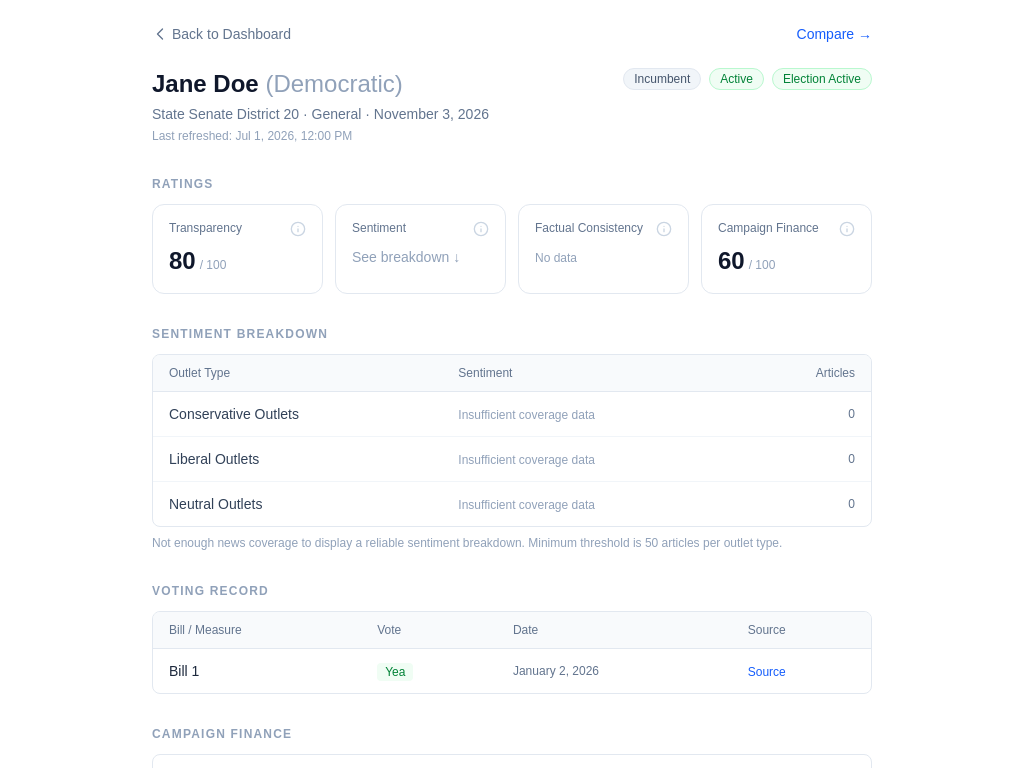
Scenario: CandidateProfile rating cards and popups › shows the 'fewer than 10 votes' explanation in the Factual popup when applicable
The image size is (1024, 768).
Click the button named "Open Factual Consistency explanation". click: point(664, 229)
box: [656,221,672,237]
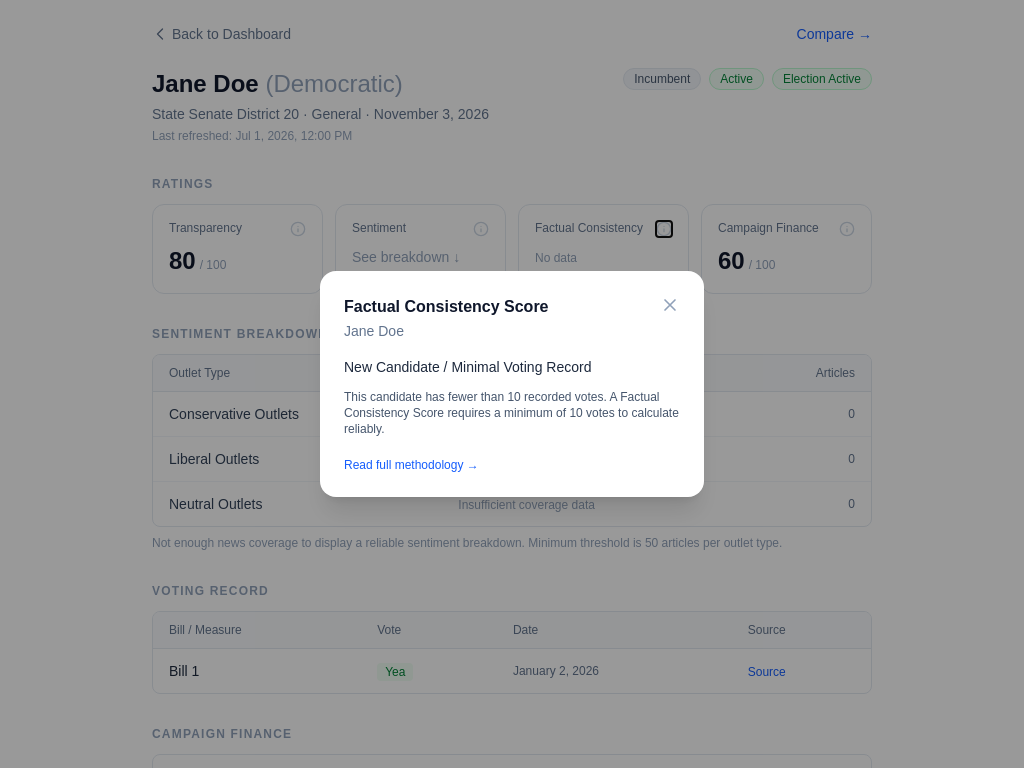
Check: the text "fewer than 10 recorded votes" is shown, box [344,390,679,436]
